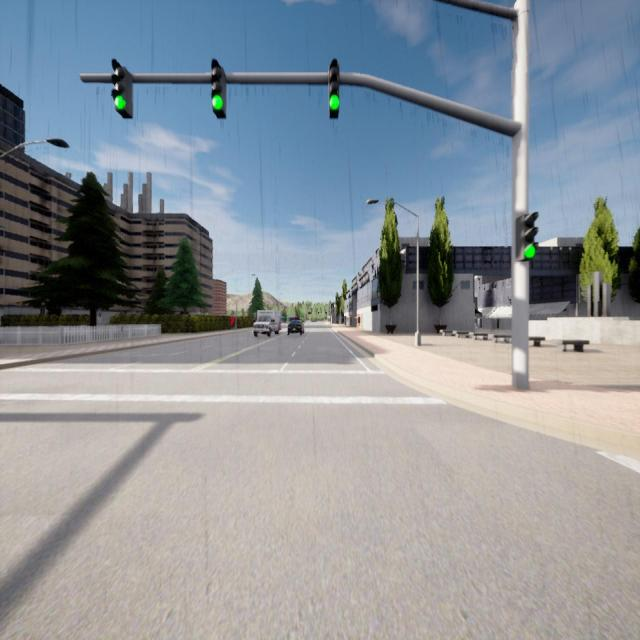Vehicle: (253, 310, 282, 337), (288, 320, 304, 336)
traffic_light: (111, 58, 132, 118), (516, 212, 538, 262), (211, 58, 226, 118), (328, 58, 339, 119)
